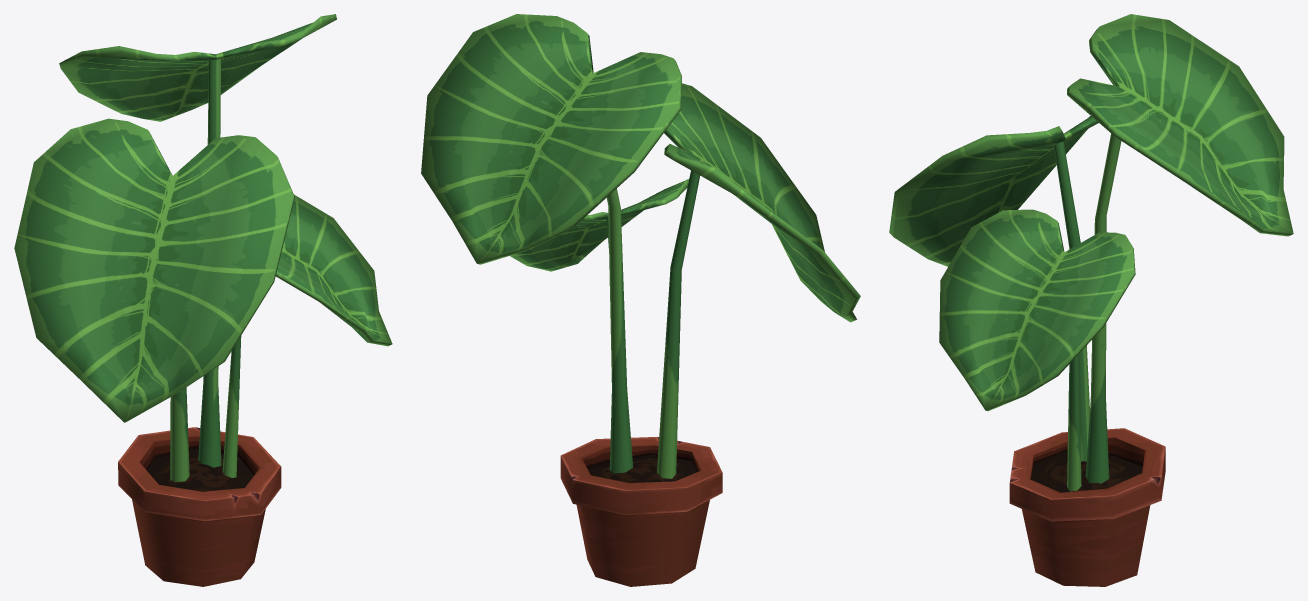
Rendered from SM_PROP_plant_interior_09.fbx.
3 views of the same model, side by side, from view 1: azimuth 30°, elevation 25°; view 2: azimuth 150°, elevation 25°; view 3: azimuth 270°, elevation 25° (orthographic).
Parts seen in each view (by area): view 1: SM_PROP_plant_interior_09; view 2: SM_PROP_plant_interior_09; view 3: SM_PROP_plant_interior_09.
Part boxes in pixels (x1,y1,x2,y2): SM_PROP_plant_interior_09: (14, 14, 392, 586); SM_PROP_plant_interior_09: (421, 14, 860, 586); SM_PROP_plant_interior_09: (889, 14, 1293, 586).
Size of the model in its own units: 116 by 162 by 114.
